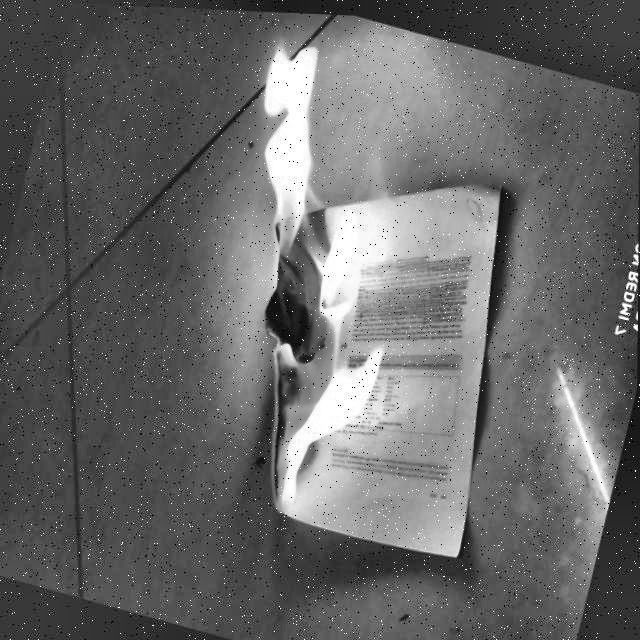Fire: (168, 25, 455, 525)
